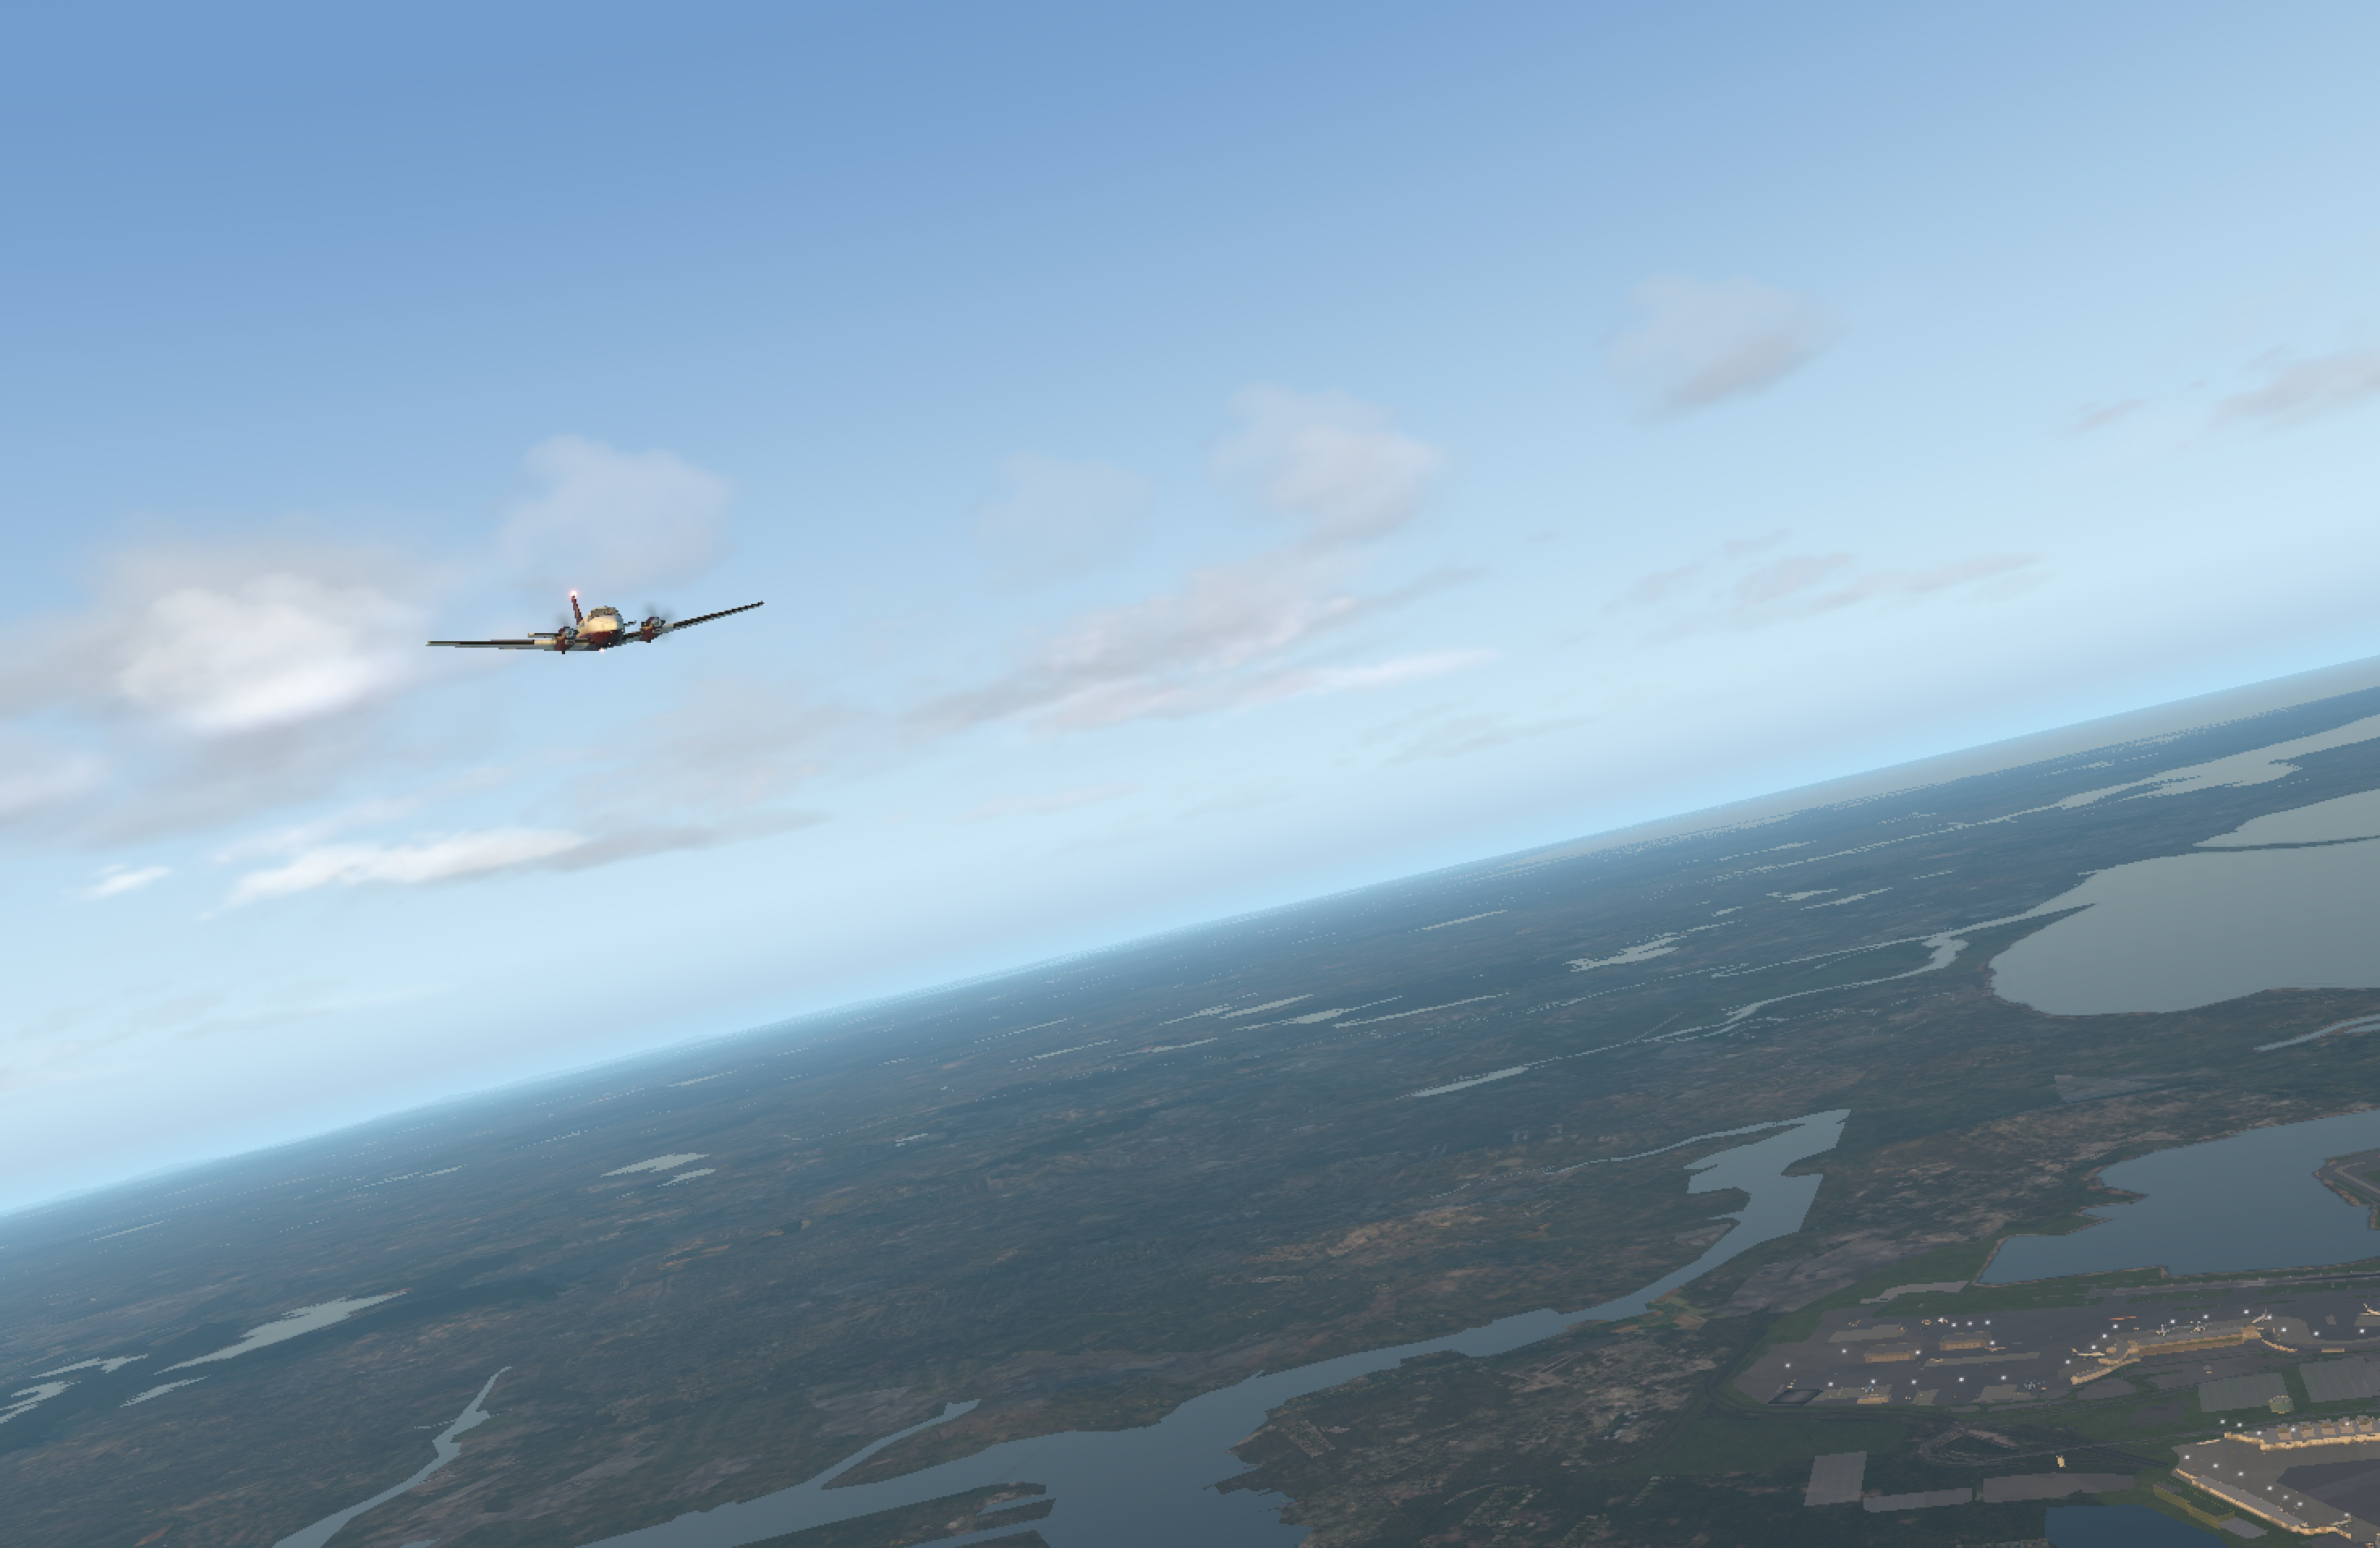aircraft: (444, 583, 768, 705)
